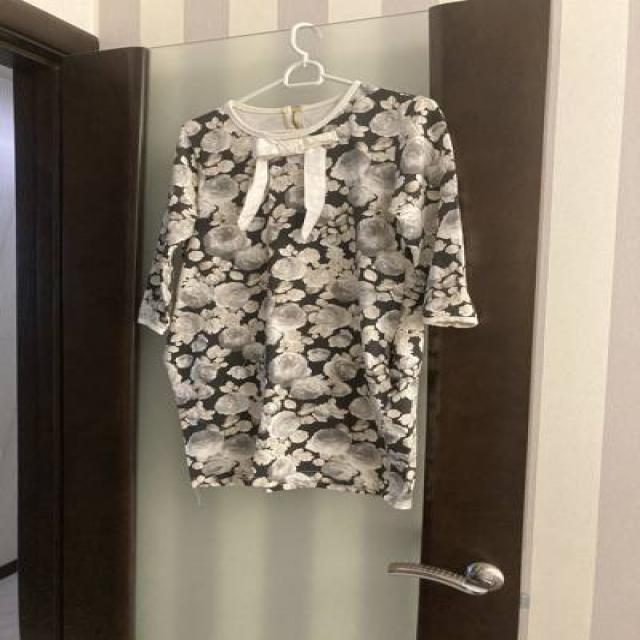Clothes -Biodegradable-: (140, 84, 474, 509)
